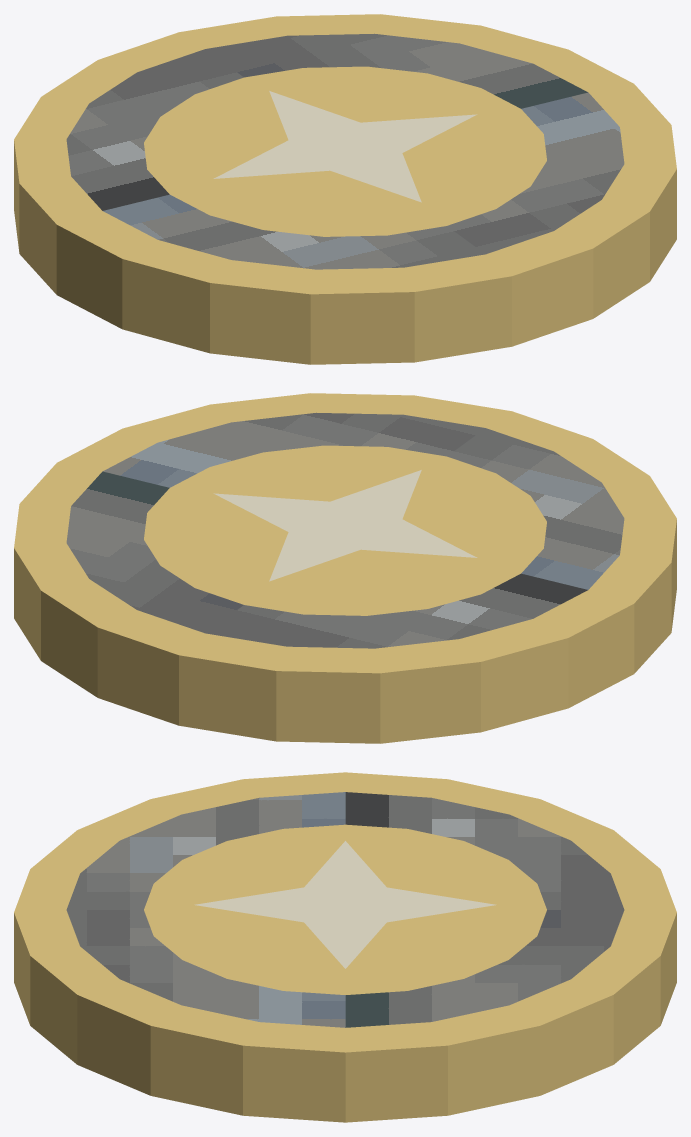
Rendered from moeda_chao.glb.
3 renders of one model, top to bottom at view 1: azimuth 30°, elevation 25°; view 2: azimuth 150°, elevation 25°; view 3: azimuth 270°, elevation 25°, orthographic.
Parts seen in each view (by area): view 1: neve_moeda_chao; view 2: neve_moeda_chao; view 3: neve_moeda_chao.
Part boxes in pixels (x1,y1,x2,y2): neve_moeda_chao: (14,14,676,364); neve_moeda_chao: (14,393,676,743); neve_moeda_chao: (14,772,676,1122).
Size of the model in its own units: 0.24 by 0.031 by 0.24.
3 materials, 1 textured.
